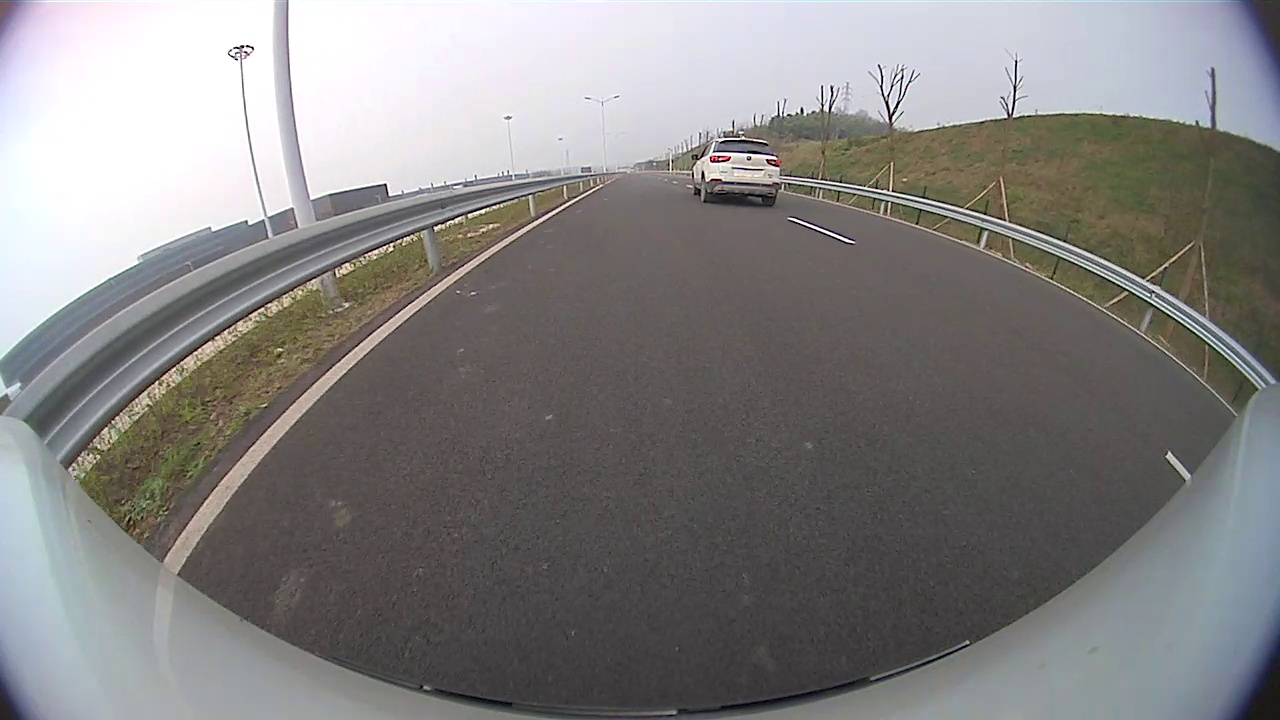car: (690, 136, 782, 207)
rear: (698, 177, 710, 203)
